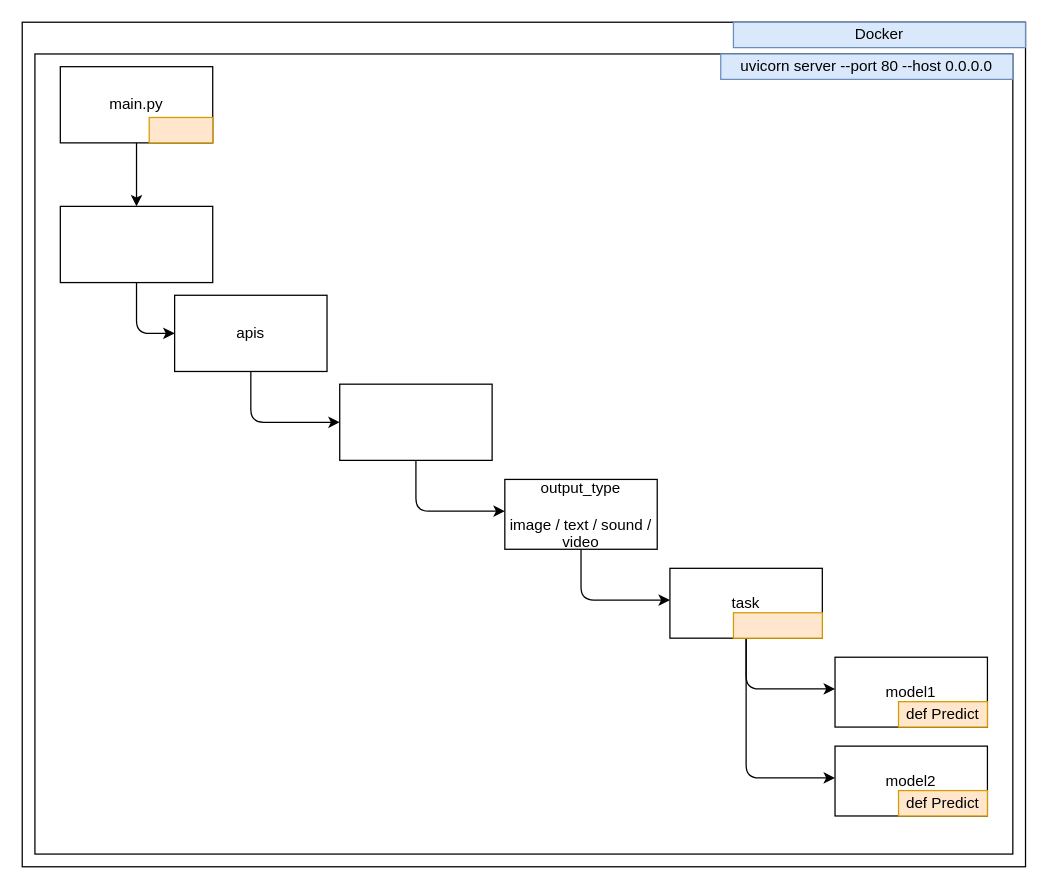
Image size: 1048x889. Some labels were removed from this diagram. The shapes that lost their labels are listed below. From the top down, each one's centre as x and y in pixels, then its label:
point (180, 129): FastAPI
point (136, 244): src
point (415, 421): input_type image / text / sound / video
point (777, 625): TaskRouter
